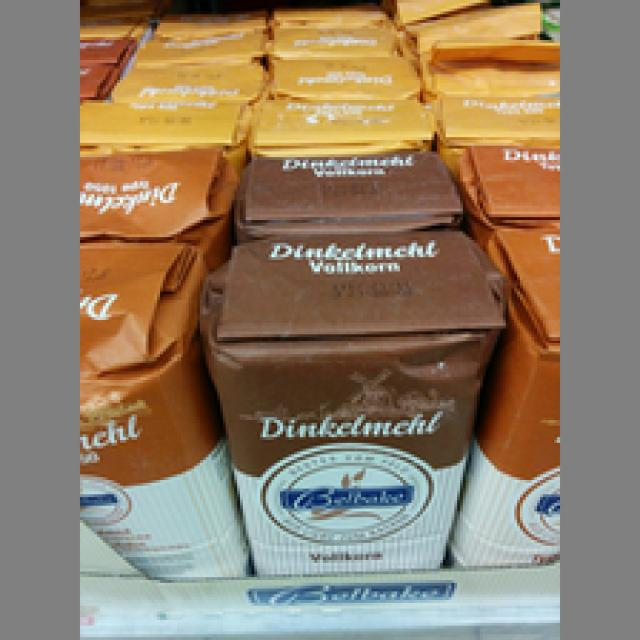groceries: (211, 232, 500, 574), (80, 237, 243, 572)
